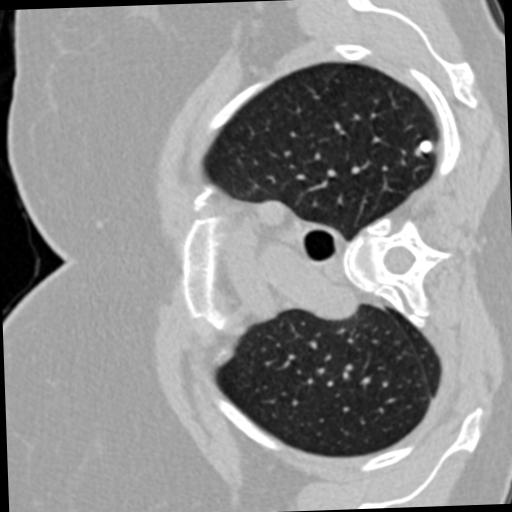nodule: (416, 136, 435, 155)
